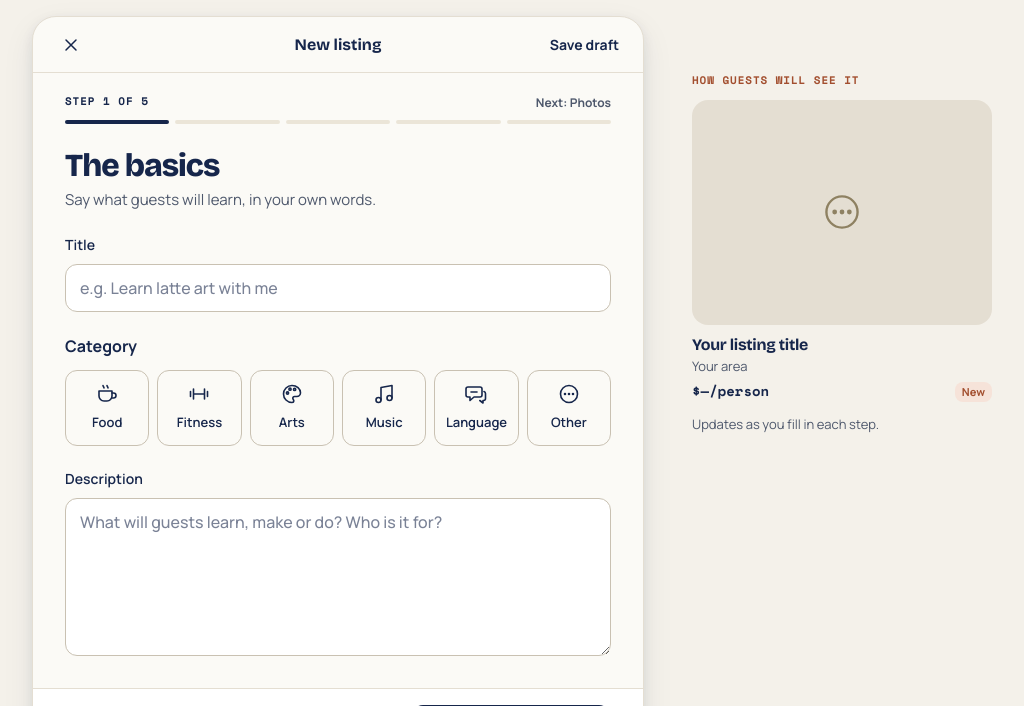
CreateListing steps › goes back a step and keeps what was typed
The image size is (1024, 706).
Type "Learn latte art with me" into the field labelled "Title" at (338, 288), box [65,264,611,312]
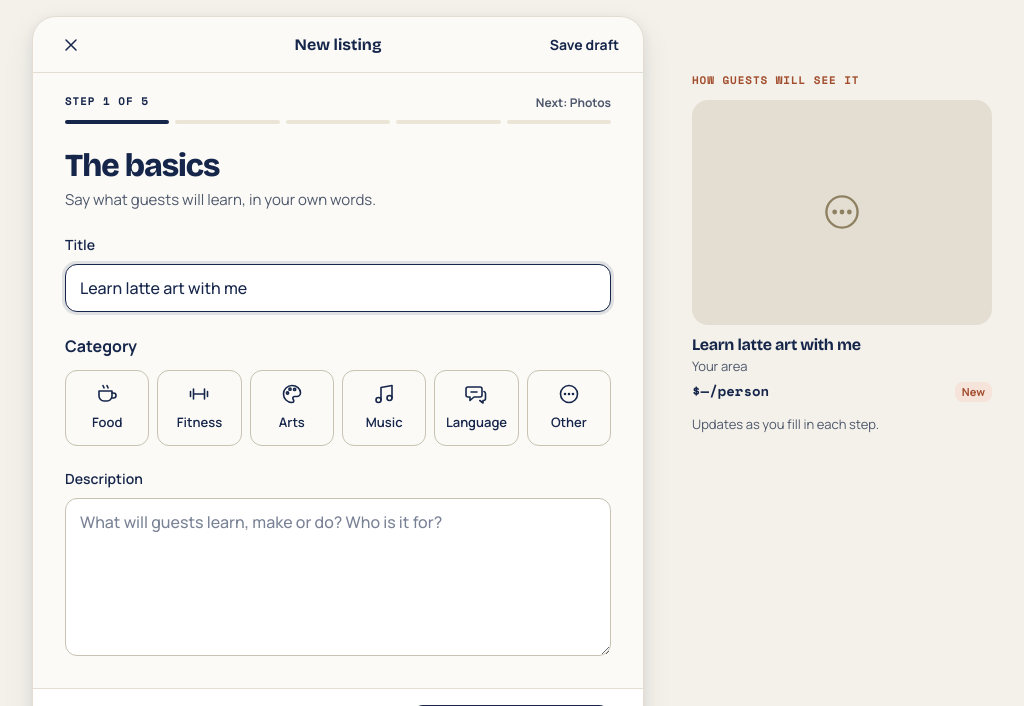
Click the radio button labelled "Food" at (107, 408), box [65,370,149,446]
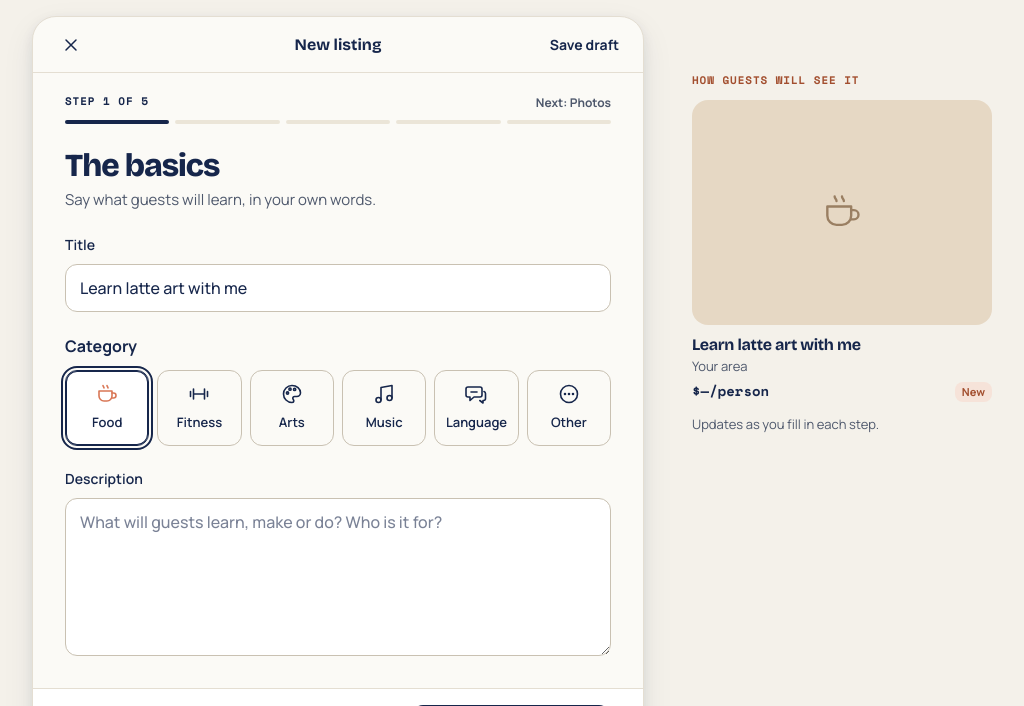
Type "Pull your first rosetta." into the text box labelled "Description" at (338, 577), box [65,498,611,656]
(page scrolled)
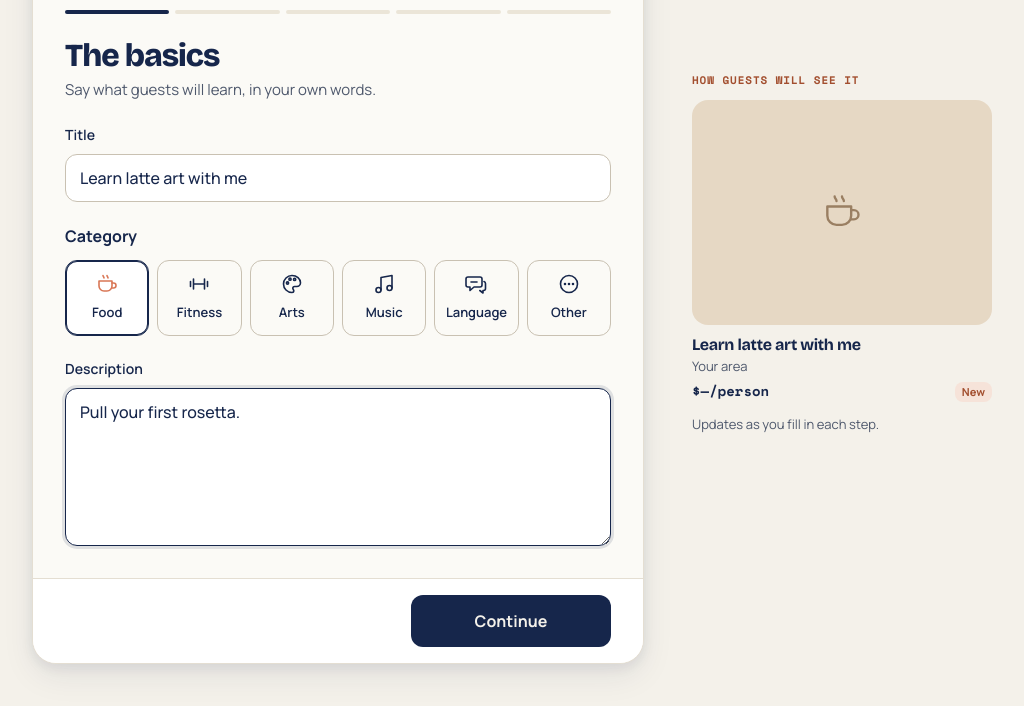
Click the button "Continue" at (511, 621), box [411,595,611,647]
(page scrolled)
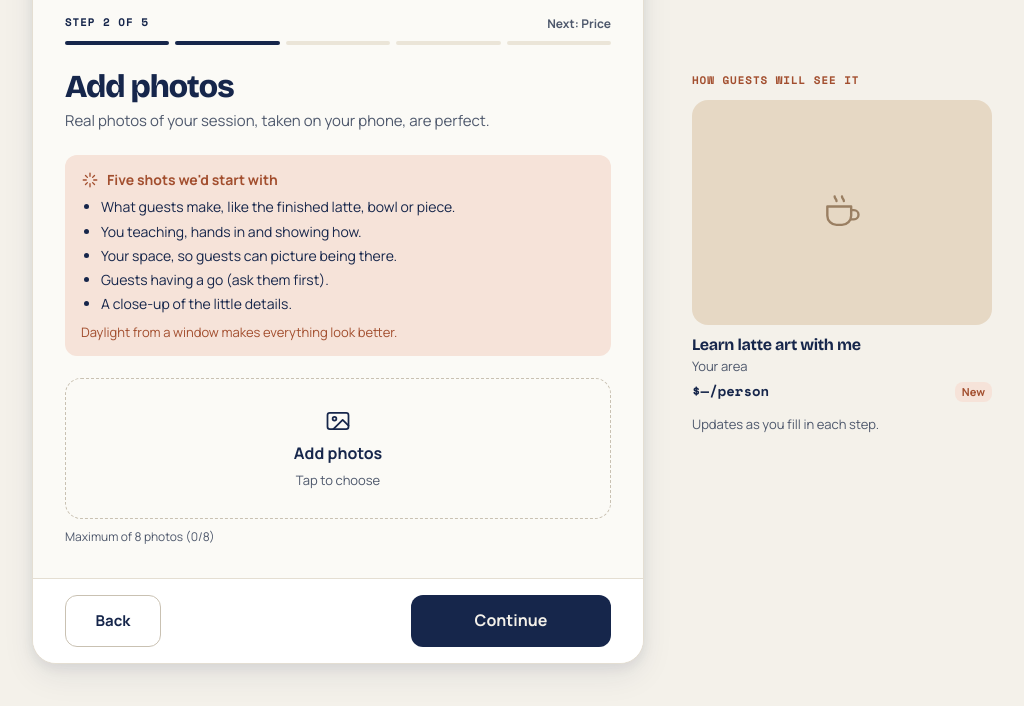
Click the button "Back" at (113, 621), box [65,595,161,647]
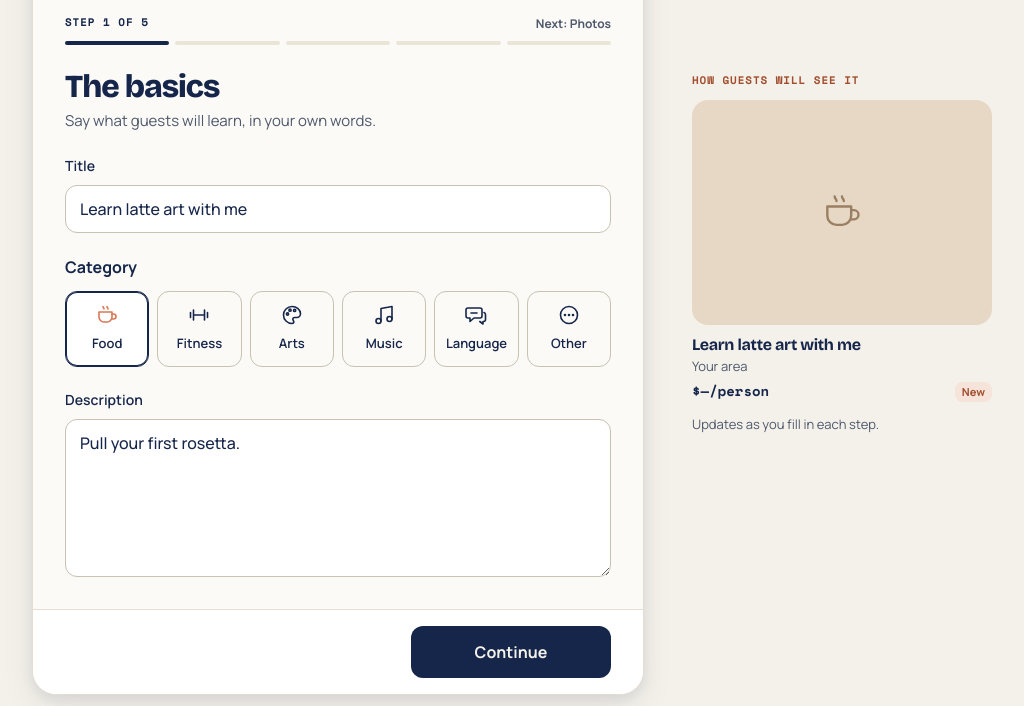
Expected: the field labelled "Title" holds "Learn latte art with me", [65,185,611,233]
Expected: the radio button labelled "Food" is checked, [65,291,149,367]
